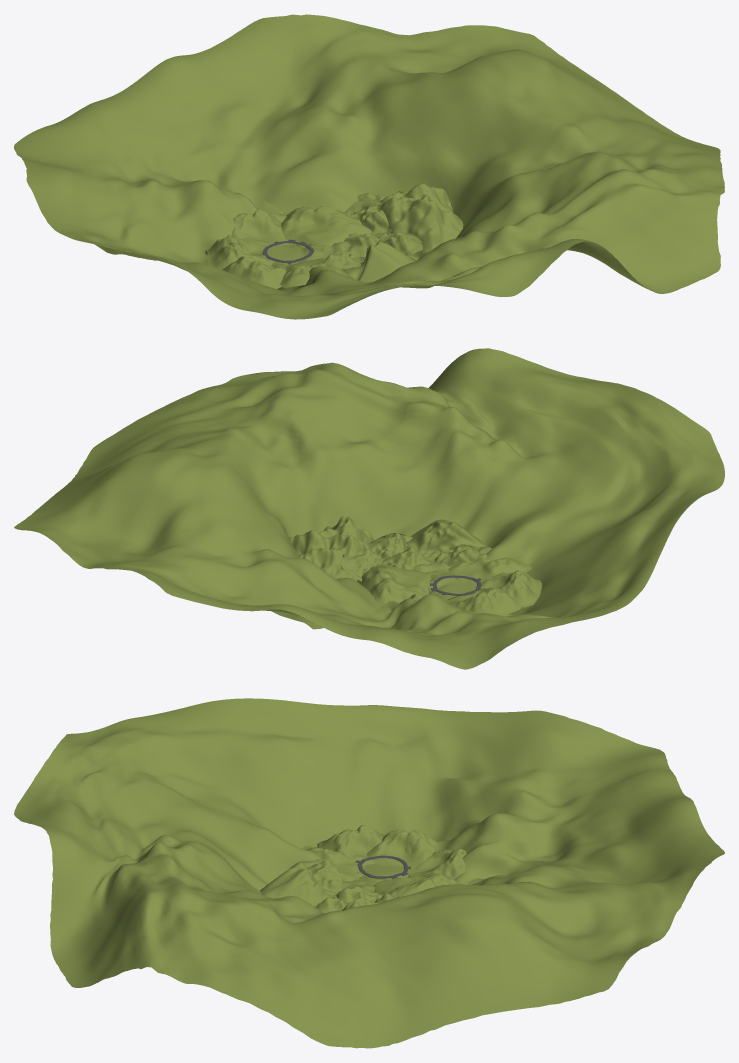
Rendered from CityGD.fbx.
3 views of the same model, one above another, from view 1: azimuth 30°, elevation 25°; view 2: azimuth 150°, elevation 25°; view 3: azimuth 270°, elevation 25° (orthographic). The views are drawn at different scales.
Visible parts, largest first — view 1: Landscape.007; view 2: Landscape.007; view 3: Landscape.007.
Boxes of the visible parts, bbox=[...] form: Landscape.007: bbox=[14, 14, 724, 319]; Landscape.007: bbox=[14, 348, 724, 669]; Landscape.007: bbox=[14, 698, 724, 1048].
Bounding box in the file's own units: 96405 × 19769 × 93865.
